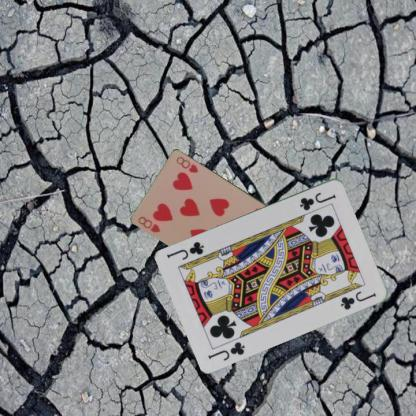8h: (136, 214, 162, 233)
Jc: (206, 338, 246, 362), (297, 189, 337, 212)
